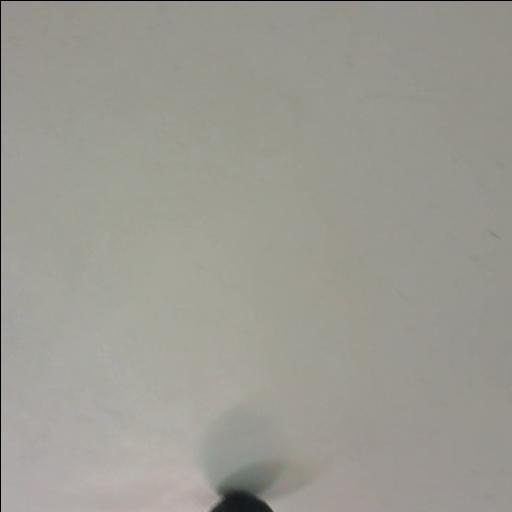dead: (203, 490, 274, 512)
